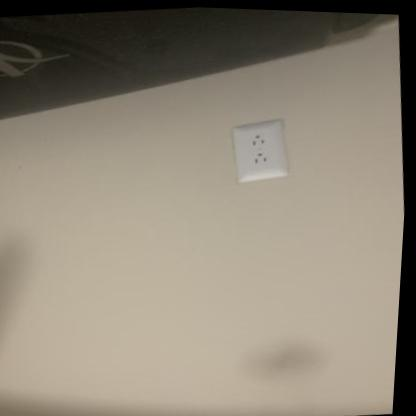OUTLET: (230, 120, 288, 184)
